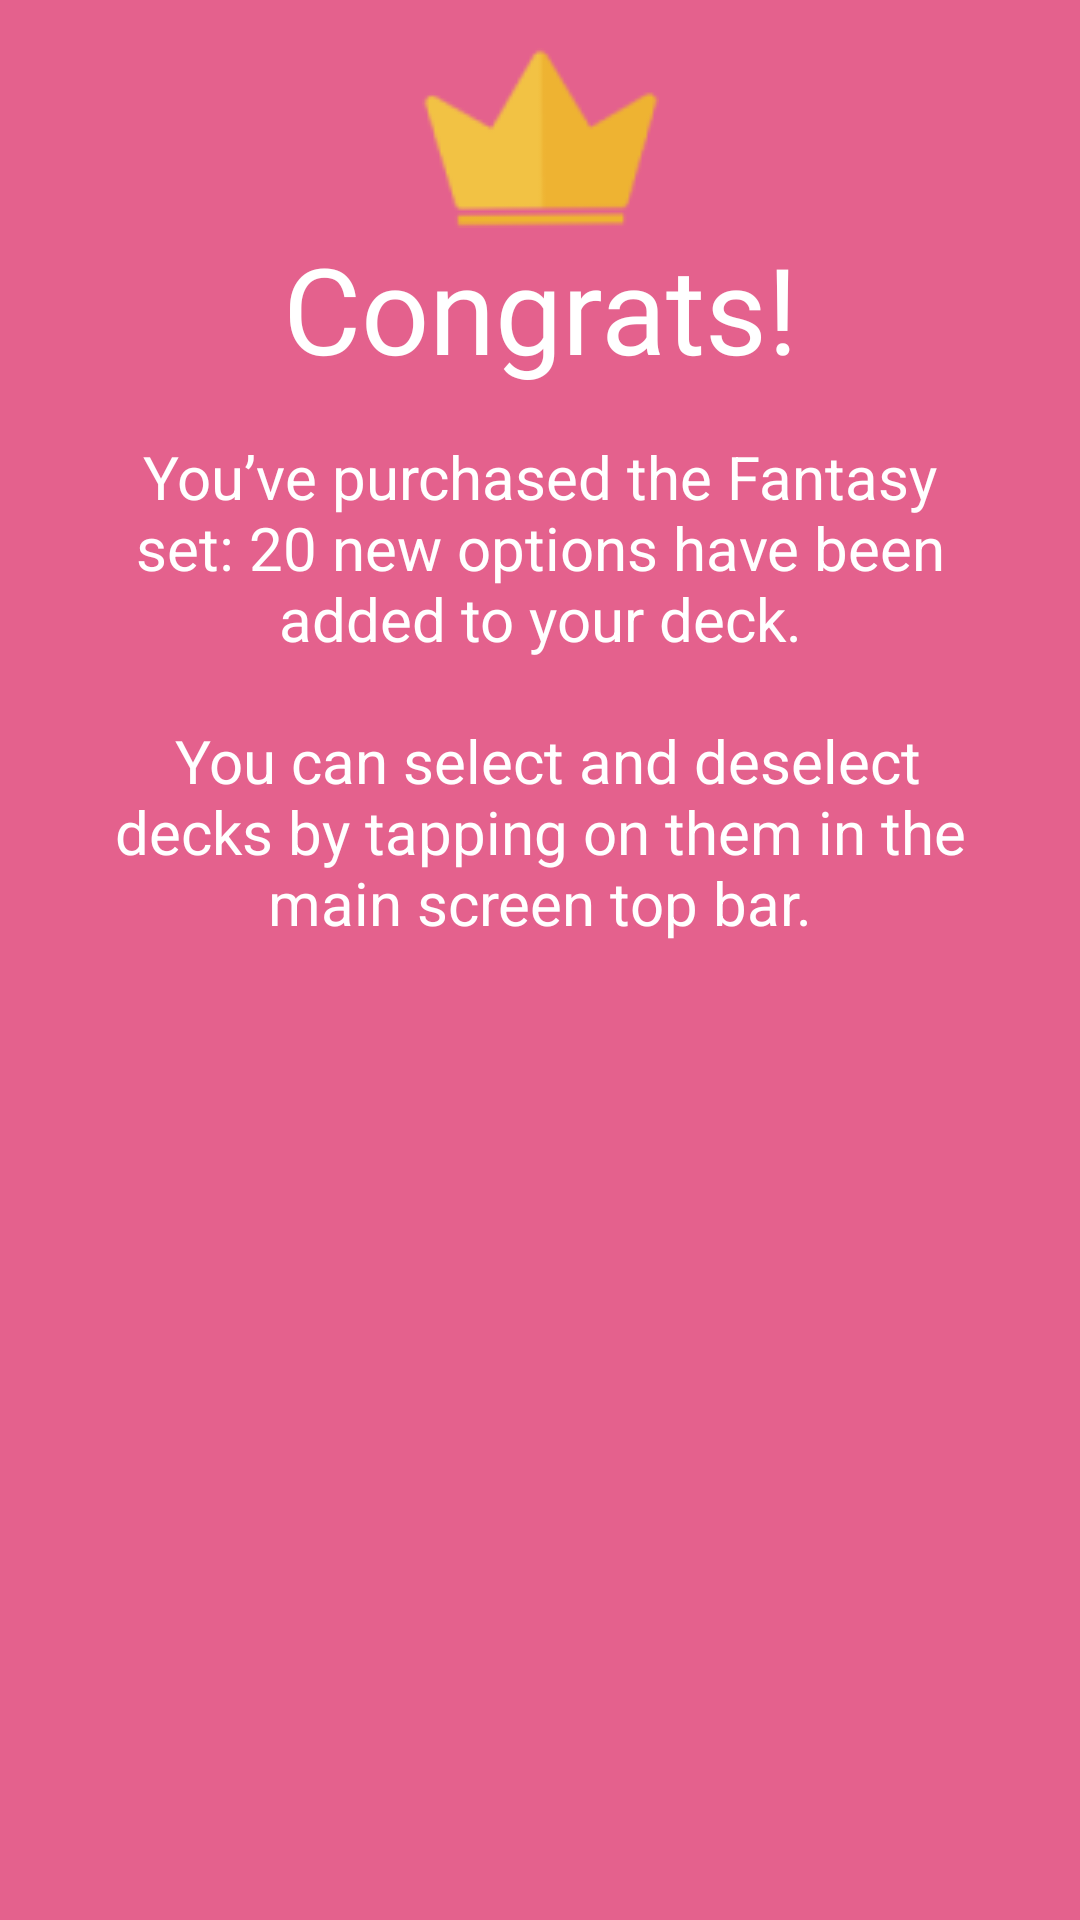

Named icons in this screenshot (1080px×1920px) and their centers, [x,y]:
crown: [540,138]
